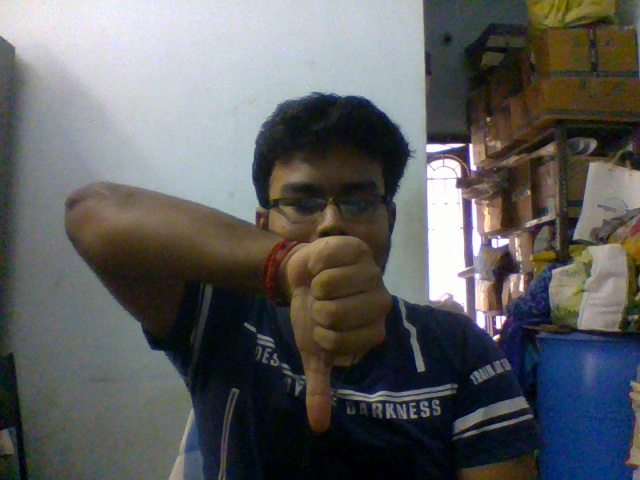ThumbsDown: (280, 236, 392, 431)
